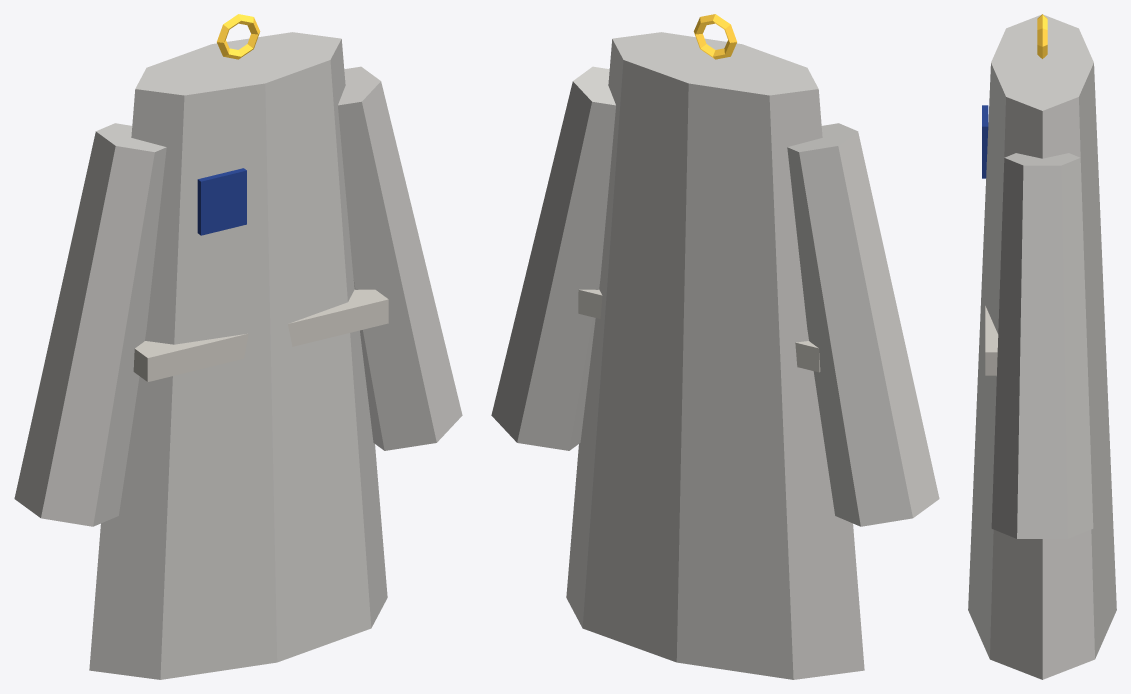
Rendered from hanging_robe.glb.
3 views of the same model, side by side, from view 1: azimuth 30°, elevation 25°; view 2: azimuth 150°, elevation 25°; view 3: azimuth 270°, elevation 25° (orthographic). The views are drawn at different scales.
Visible parts, largest first — view 1: robe_robe_white, robe_robe_terry, crest_crest_blue, hook_gold; view 2: robe_robe_white, robe_robe_terry, hook_gold; view 3: robe_robe_white, robe_robe_terry, hook_gold, crest_crest_blue.
Boxes of the visible parts, x1,y1,x2,y2 form: robe_robe_white: [14, 32, 462, 679]; robe_robe_terry: [133, 289, 388, 381]; crest_crest_blue: [197, 168, 246, 235]; hook_gold: [217, 14, 260, 59]; robe_robe_white: [491, 32, 939, 679]; robe_robe_terry: [578, 289, 820, 372]; hook_gold: [693, 14, 736, 59]; robe_robe_white: [968, 14, 1116, 679]; robe_robe_terry: [985, 306, 998, 375]; hook_gold: [1037, 14, 1047, 58]; crest_crest_blue: [982, 105, 988, 178].
Bounding box in the file's own units: 0.735 × 1.03 × 0.234.
